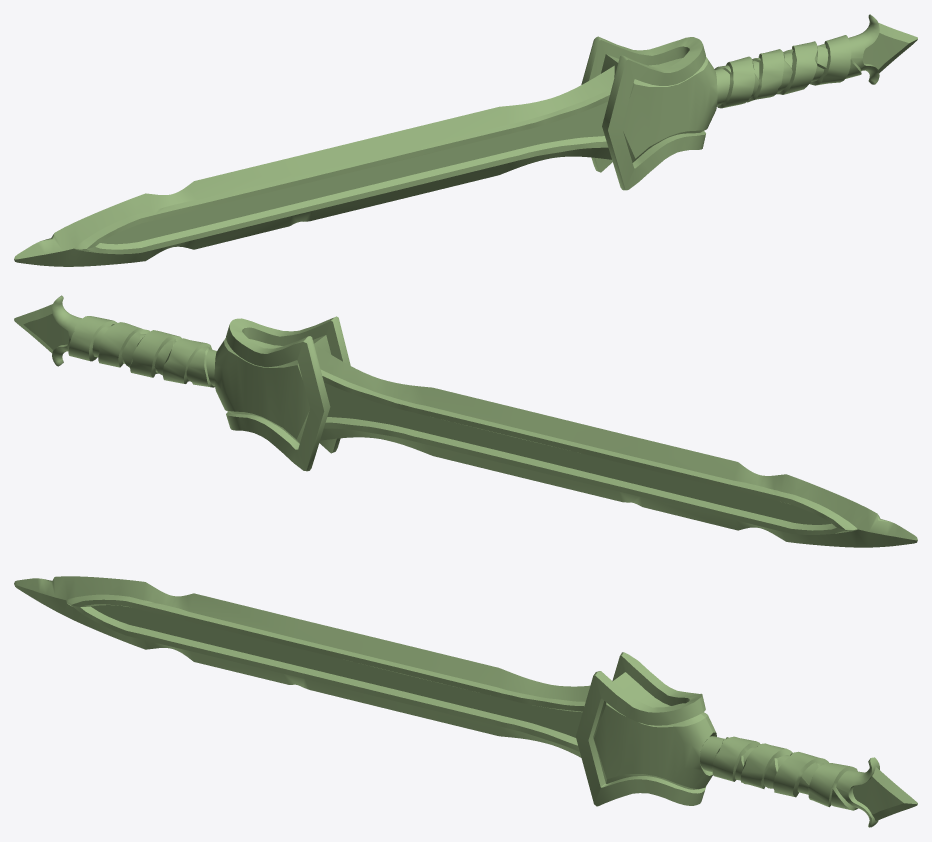
The model's file is SM_Rune_Sword_2.fbx.
3 views of the same model, one above another, from view 1: azimuth 30°, elevation 25°; view 2: azimuth 150°, elevation 25°; view 3: azimuth 330°, elevation 25° (orthographic).
Parts seen in each view (by area): view 1: SM_Rune_Sword_2; view 2: SM_Rune_Sword_2; view 3: SM_Rune_Sword_2.
Boxes of the visible parts, x1=… form: SM_Rune_Sword_2: x1=14, y1=14, x2=917, y2=266; SM_Rune_Sword_2: x1=14, y1=295, x2=917, y2=547; SM_Rune_Sword_2: x1=14, y1=576, x2=917, y2=827.
Size of the model in its own units: 1.09 by 0.1559 by 0.07.
